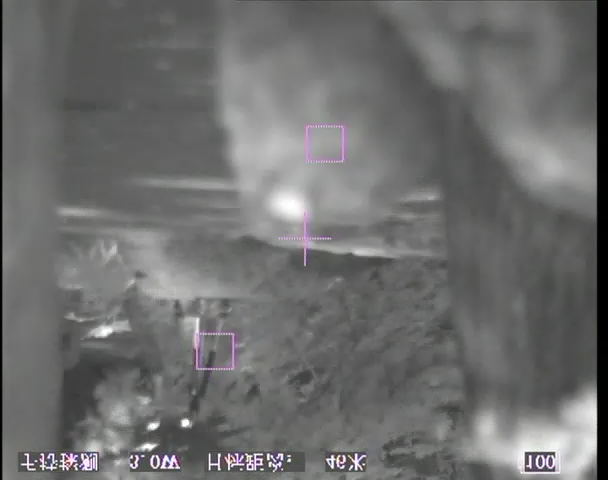my: (179, 417, 190, 428)
